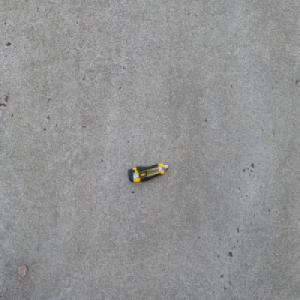Cutter: (127, 162, 168, 183)
